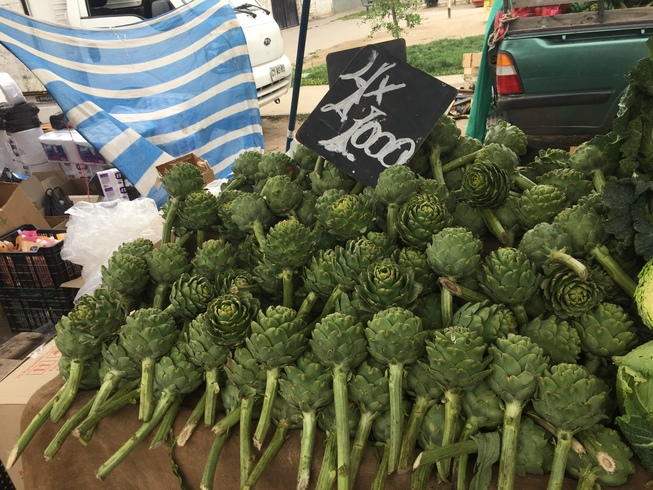precio: (288, 41, 464, 197)
